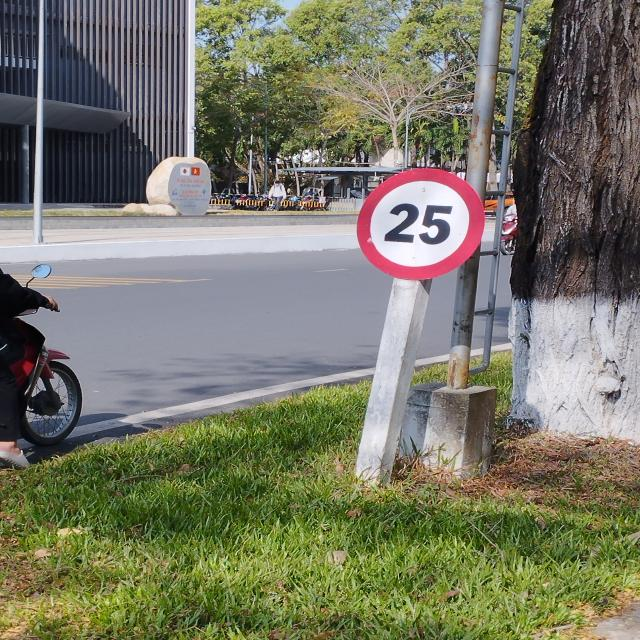Tre_Em: (357, 169, 485, 280)
